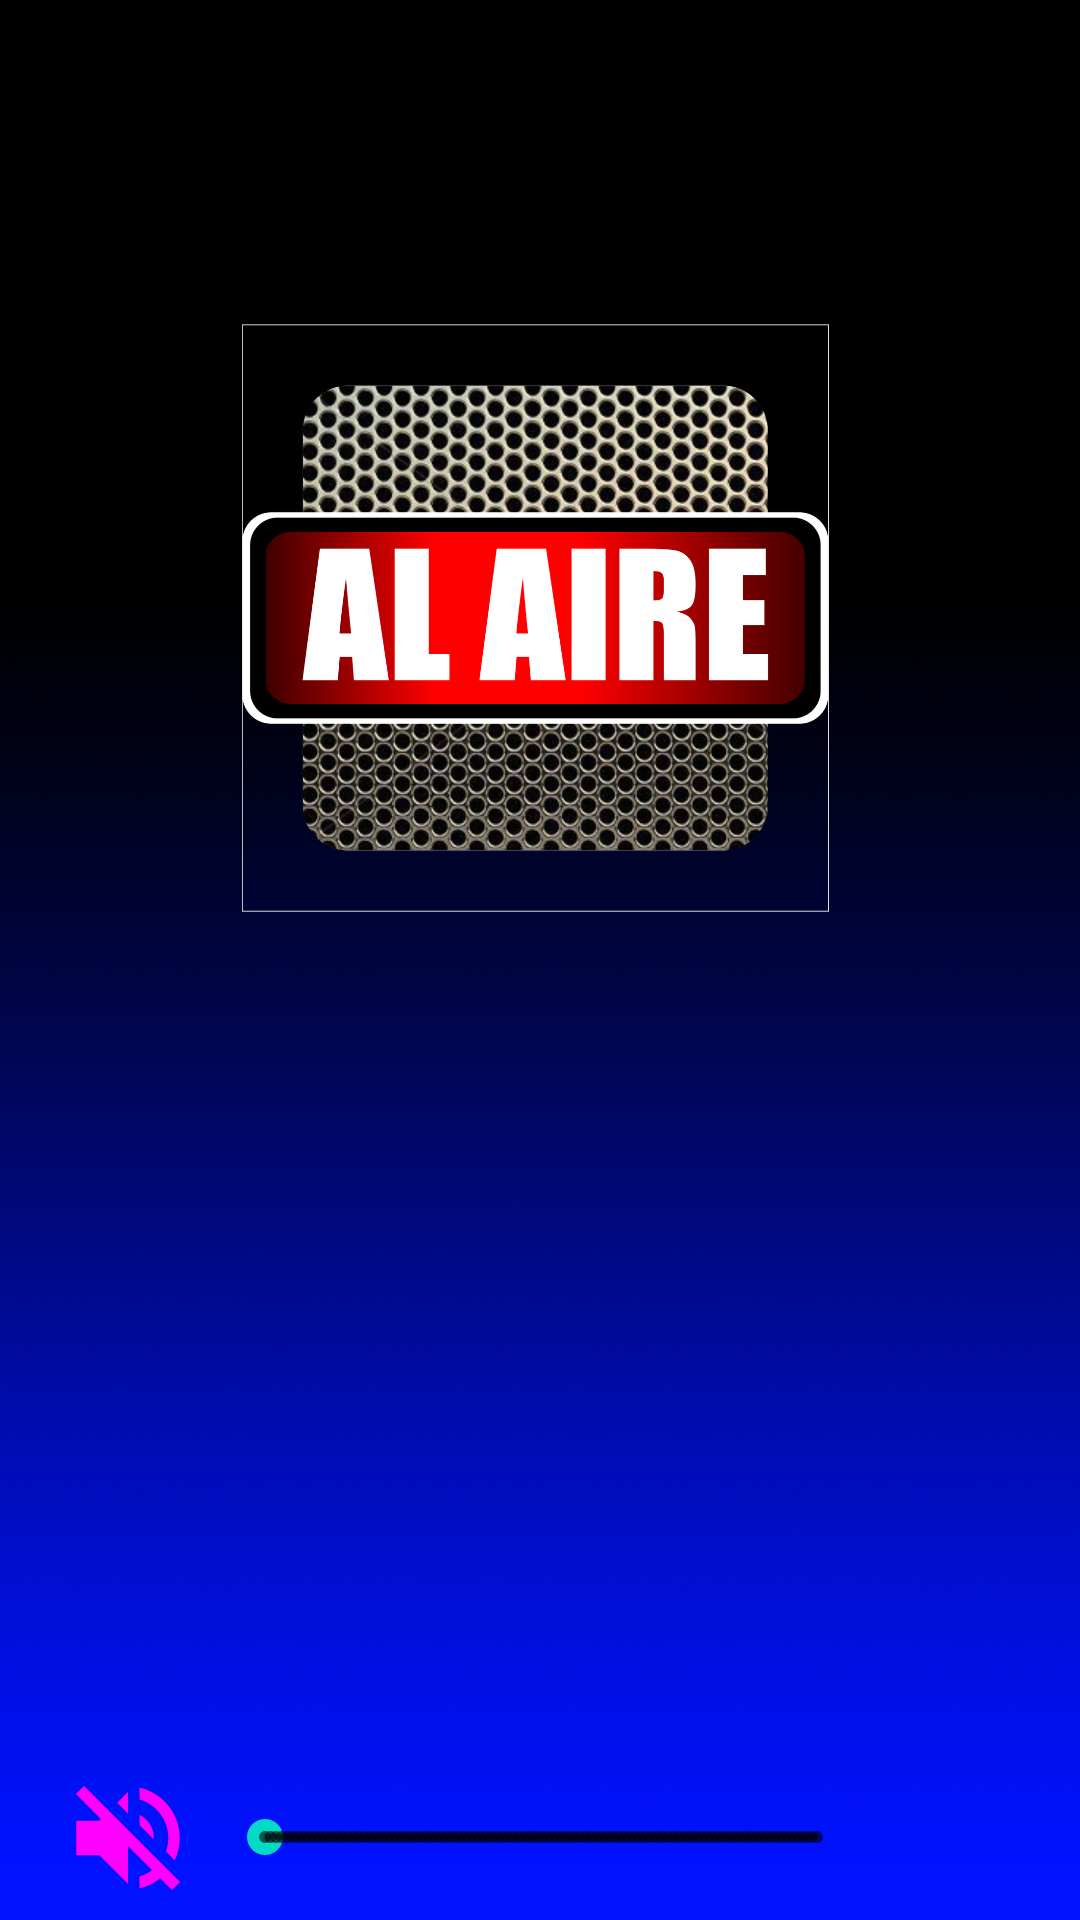

Screen size 1080px×1920px. Icon name, then its center in pixels as [x,y]:
volume off: [128,1838]
